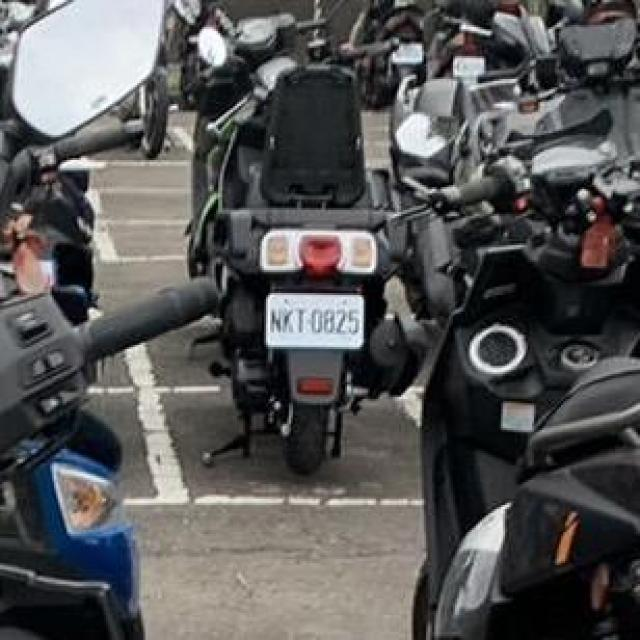W: (265, 291, 367, 352)
